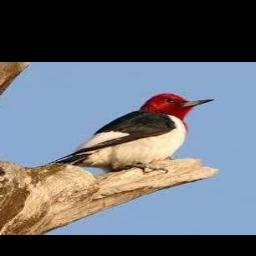Woodpecker: (55, 93, 214, 169)
